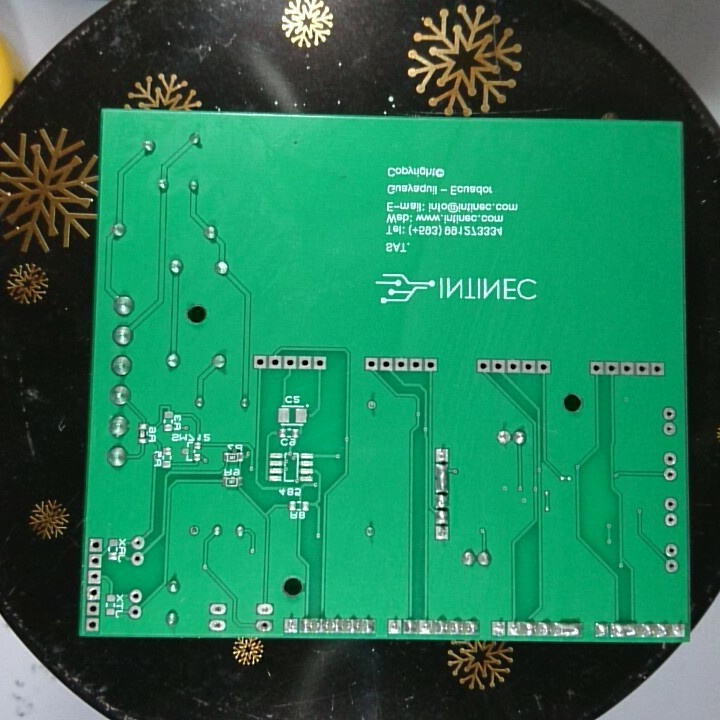F: (668, 620, 688, 640), (385, 618, 405, 638), (433, 523, 453, 543), (129, 549, 147, 569), (364, 354, 379, 377), (422, 356, 439, 376), (491, 618, 507, 639), (495, 428, 511, 449), (659, 404, 676, 423), (282, 618, 301, 635), (87, 536, 104, 555), (663, 558, 679, 578), (604, 359, 619, 380), (662, 496, 679, 514), (255, 601, 274, 617), (254, 617, 273, 633), (520, 358, 536, 377), (589, 359, 605, 378), (475, 358, 490, 378), (505, 358, 520, 378), (296, 354, 313, 371), (663, 450, 679, 468), (127, 603, 143, 621), (130, 532, 146, 550), (253, 353, 269, 371), (394, 356, 410, 374), (409, 358, 427, 374), (662, 420, 677, 439), (208, 602, 227, 617), (619, 359, 634, 378), (416, 618, 430, 638), (209, 617, 229, 631), (490, 358, 504, 378), (664, 511, 677, 532), (281, 354, 297, 371), (650, 360, 666, 377), (664, 541, 679, 559), (87, 568, 101, 587), (267, 352, 281, 371), (536, 359, 550, 378), (507, 620, 519, 642), (366, 395, 379, 415), (85, 616, 101, 632), (634, 362, 650, 378), (435, 446, 450, 463), (663, 466, 676, 485), (188, 521, 200, 540), (85, 601, 100, 616), (379, 357, 393, 373), (86, 586, 99, 603), (314, 355, 327, 372), (88, 552, 101, 568), (128, 589, 143, 602)
P: (551, 621, 581, 640), (609, 623, 638, 640), (436, 463, 448, 494)
